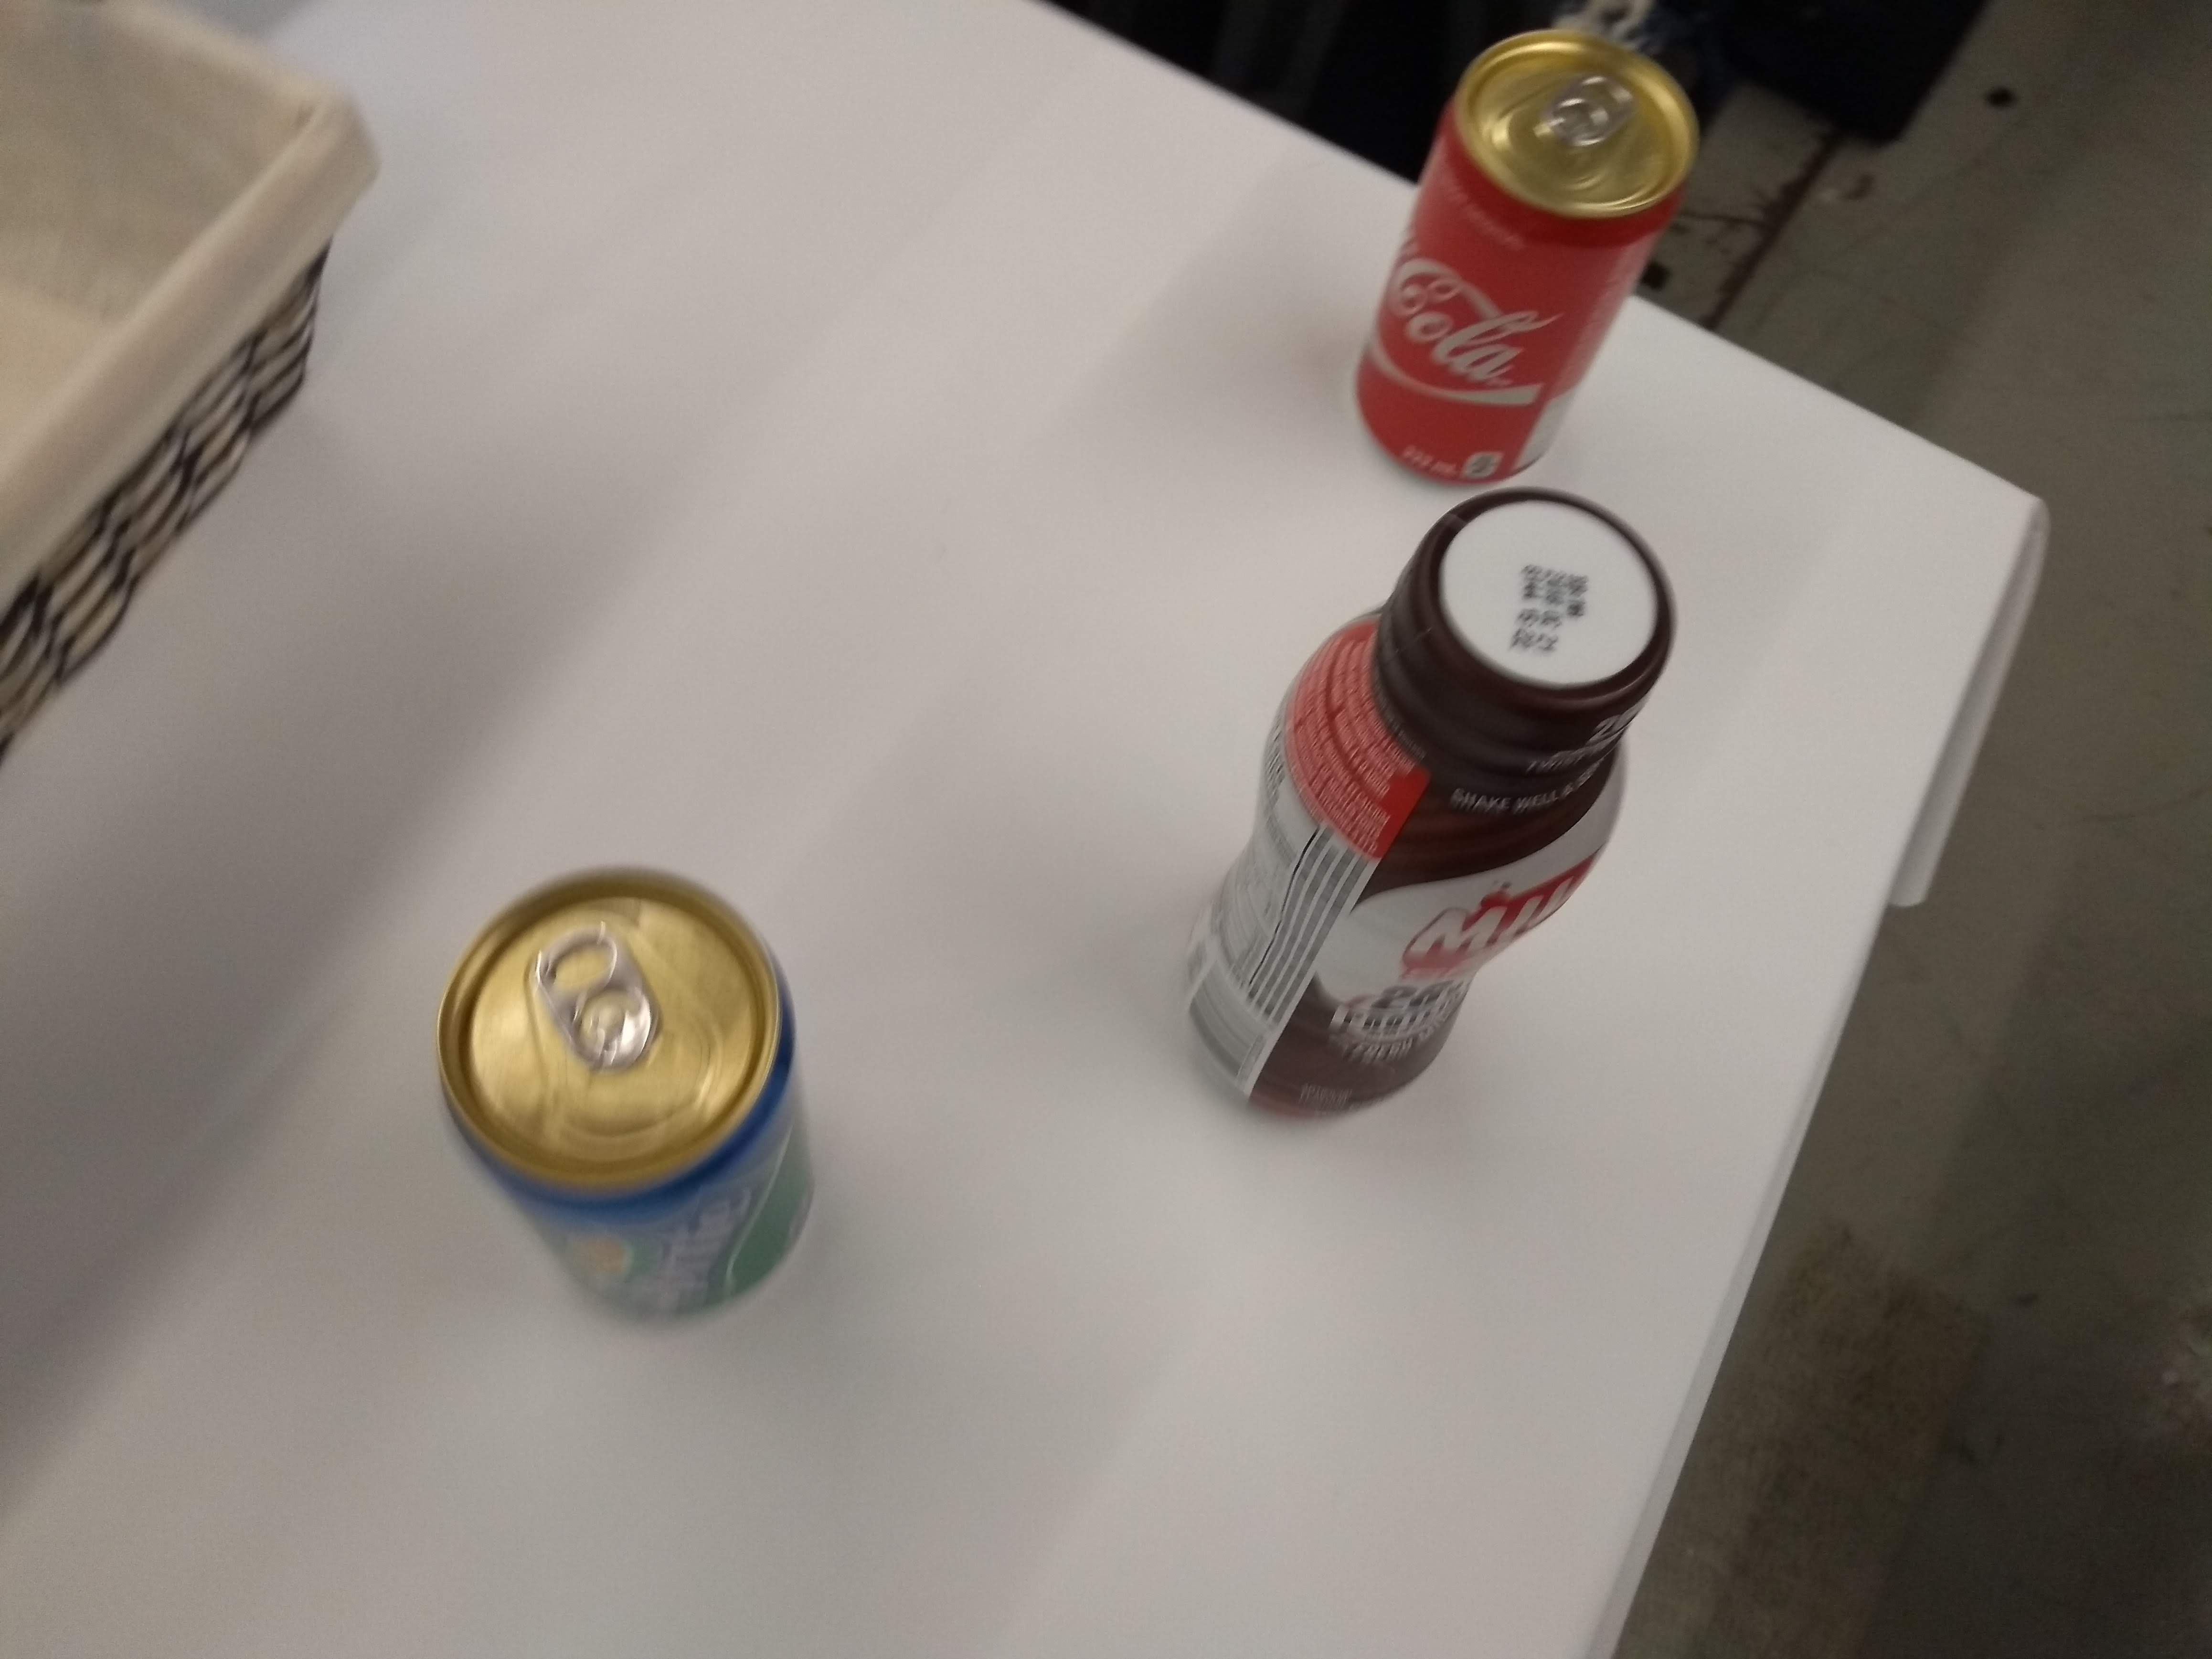chocolate_drink: (1169, 483, 1696, 1138)
coke: (1346, 24, 1707, 504)
sprite: (420, 842, 850, 1340)
